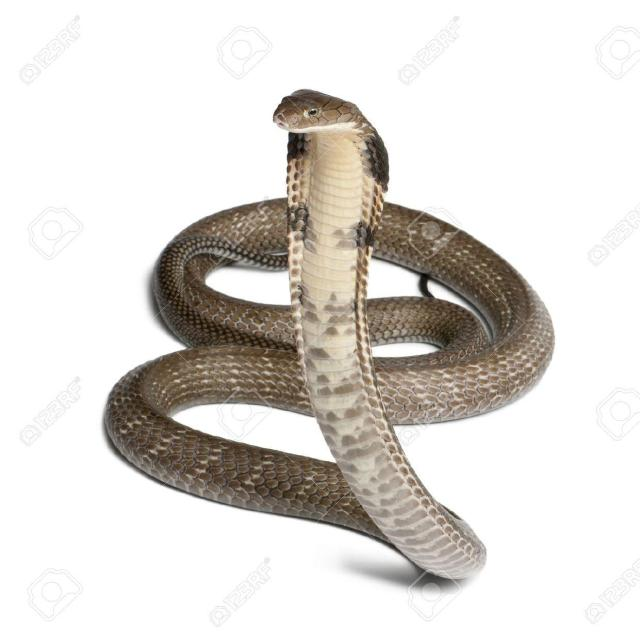Snake: (102, 87, 555, 581)
